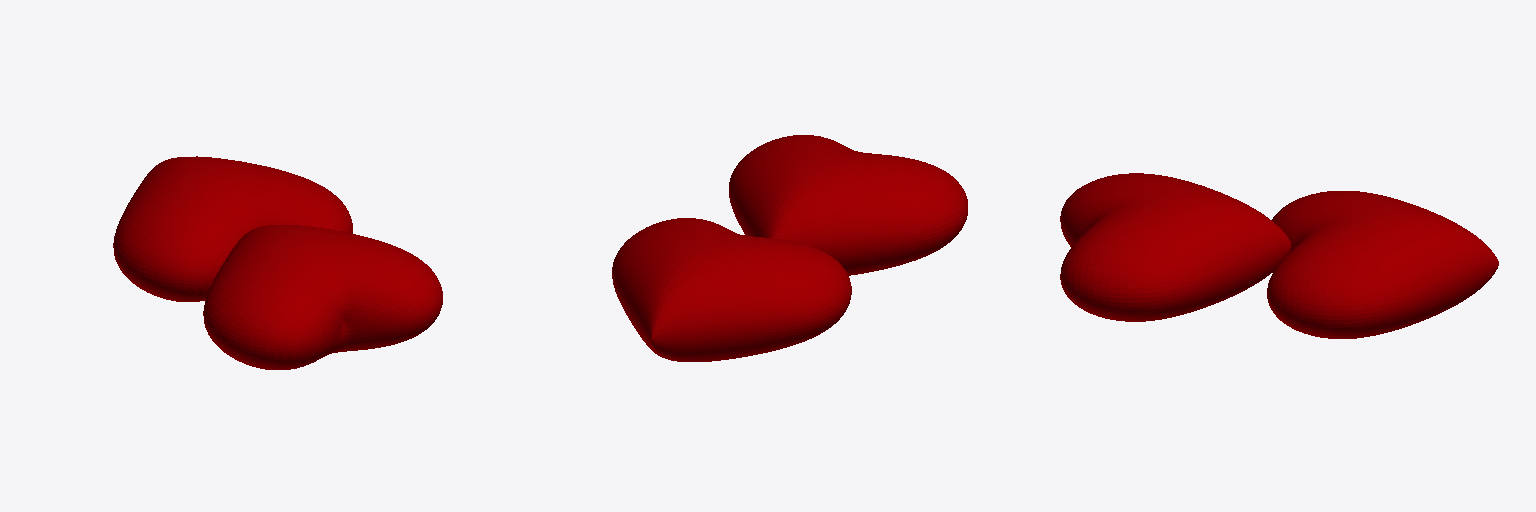
The model's file is heart2.obj.
3 views of the same model, side by side, from view 1: azimuth 30°, elevation 25°; view 2: azimuth 150°, elevation 25°; view 3: azimuth 270°, elevation 25° (orthographic).
Parts seen in each view (by area): view 1: Object.2, Object.1; view 2: Object.1, Object.2; view 3: Object.2, Object.1.
Part boxes in pixels (bbox=[...]): Object.2: bbox=[203, 225, 442, 369]; Object.1: bbox=[113, 156, 352, 301]; Object.1: bbox=[612, 218, 851, 361]; Object.2: bbox=[729, 135, 967, 275]; Object.2: bbox=[1060, 173, 1290, 321]; Object.1: bbox=[1267, 191, 1498, 338].
Size of the model in its own units: 84.9 by 40.35 by 140.